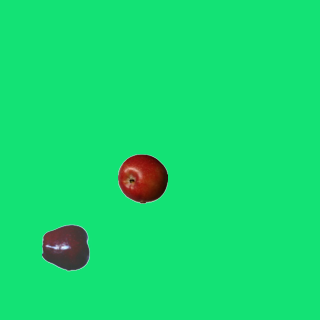Apple Braeburn: (117, 153, 167, 203)
Apple Red Delicious: (41, 222, 91, 272)
